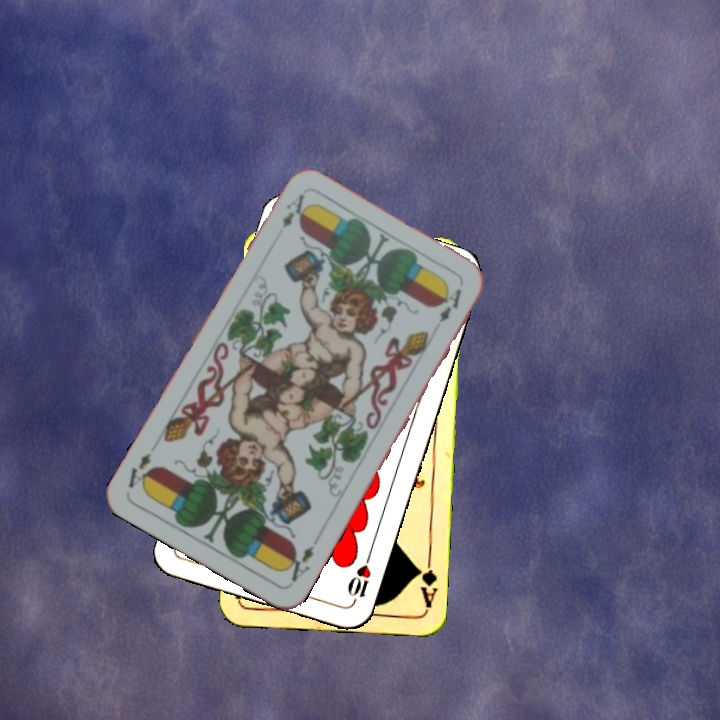EA: (280, 542, 317, 585), (278, 190, 307, 231)
GA: (413, 551, 440, 610)
H10: (343, 549, 374, 607)
